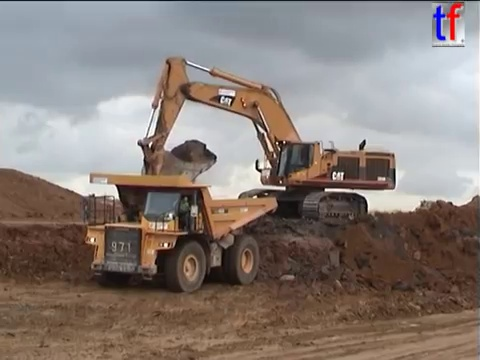excavator: (134, 53, 399, 227)
truck: (81, 171, 279, 294), (413, 199, 440, 217)
